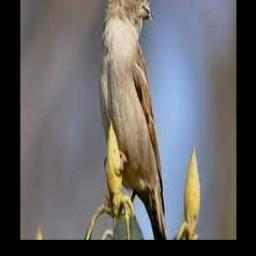Sparrow: (99, 0, 168, 239)
